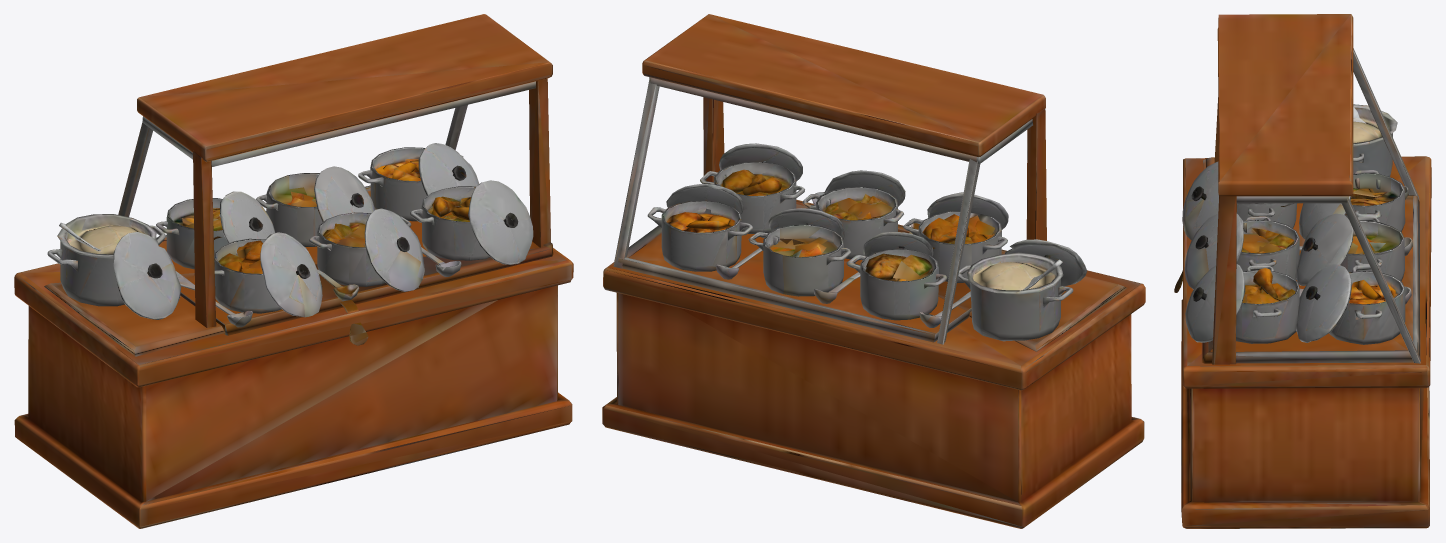
Rendered from karinderya.glb.
3 renders of one model, left to right at view 1: azimuth 30°, elevation 25°; view 2: azimuth 150°, elevation 25°; view 3: azimuth 270°, elevation 25°, orthographic. The views are drawn at different scales.
Visible parts, largest first — view 1: geometry_0; view 2: geometry_0; view 3: geometry_0.
Boxes of the visible parts, <box> form: geometry_0: <box>14,14,573,528</box>; geometry_0: <box>602,14,1145,528</box>; geometry_0: <box>1174,14,1431,528</box>.
Bounding box in the file's own units: 0.957 × 0.7305 × 0.4898.
Materials: 1 (1 with a texture image).
